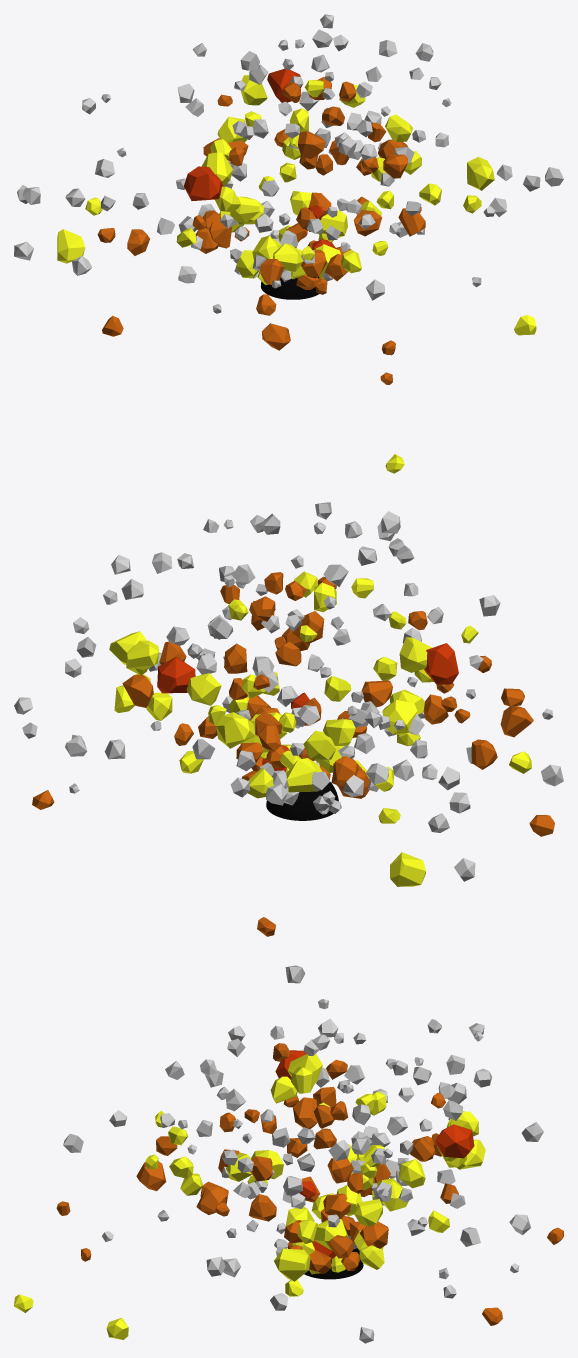
Rendered from Explosion0044.obj.
3 views of the same model, one above another, from view 1: azimuth 30°, elevation 25°; view 2: azimuth 150°, elevation 25°; view 3: azimuth 270°, elevation 25° (orthographic). The views are drawn at different scales.
Visible parts, largest first — view 1: Cube_Material, Cube.002_Material.003, Cube.001_Material.002, Cube.003_Material.004, Circle_Material.001; view 2: Cube_Material, Cube.002_Material.003, Cube.001_Material.002, Cube.003_Material.004, Circle_Material.001; view 3: Cube_Material, Cube.002_Material.003, Cube.001_Material.002, Cube.003_Material.004.
Part boxes in pixels (x1,y1,x2,y2): Cube_Material: (14, 14, 563, 313); Cube.002_Material.003: (57, 75, 536, 473); Cube.001_Material.002: (97, 77, 425, 384); Cube.003_Material.004: (183, 68, 336, 249); Circle_Material.001: (260, 277, 319, 299); Cube_Material: (14, 502, 563, 881); Cube.002_Material.003: (109, 571, 531, 886); Cube.001_Material.002: (32, 572, 554, 936); Cube.003_Material.004: (157, 643, 458, 772); Circle_Material.001: (266, 782, 338, 820); Cube_Material: (63, 965, 543, 1343); Cube.002_Material.003: (14, 1054, 485, 1339); Cube.001_Material.002: (56, 1043, 563, 1325); Cube.003_Material.004: (275, 1050, 474, 1258).
Size of the model in its own units: 16.29 by 11.08 by 16.26.
